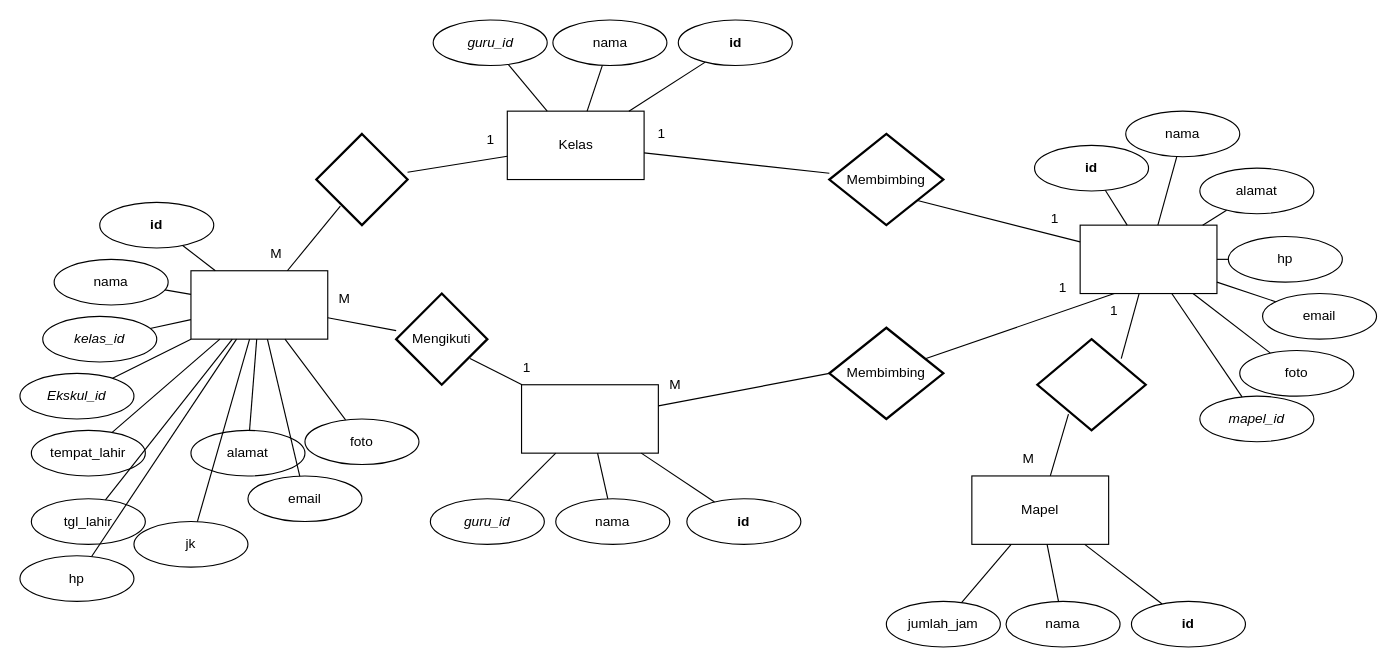
Some shapes in this 1397 by 667 pixel diagram are drawn without their labels. The centre of each missing label's shape, as x and y in pixels:
Ekskul: the point at 589,418
Guru: the point at 1148,259
Memiliki: the point at 361,179
Mengajar: the point at 1091,384
Siswa: the point at 259,304
